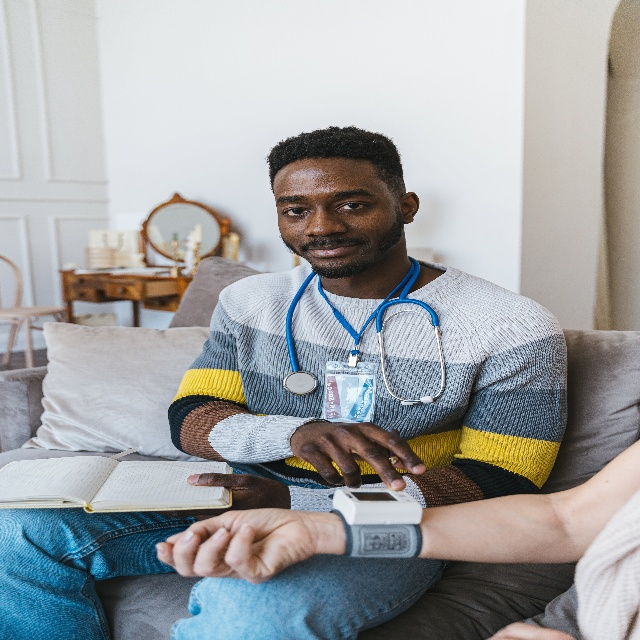Sin_guantes: (155, 507, 310, 584), (289, 422, 426, 491), (156, 472, 291, 521)
